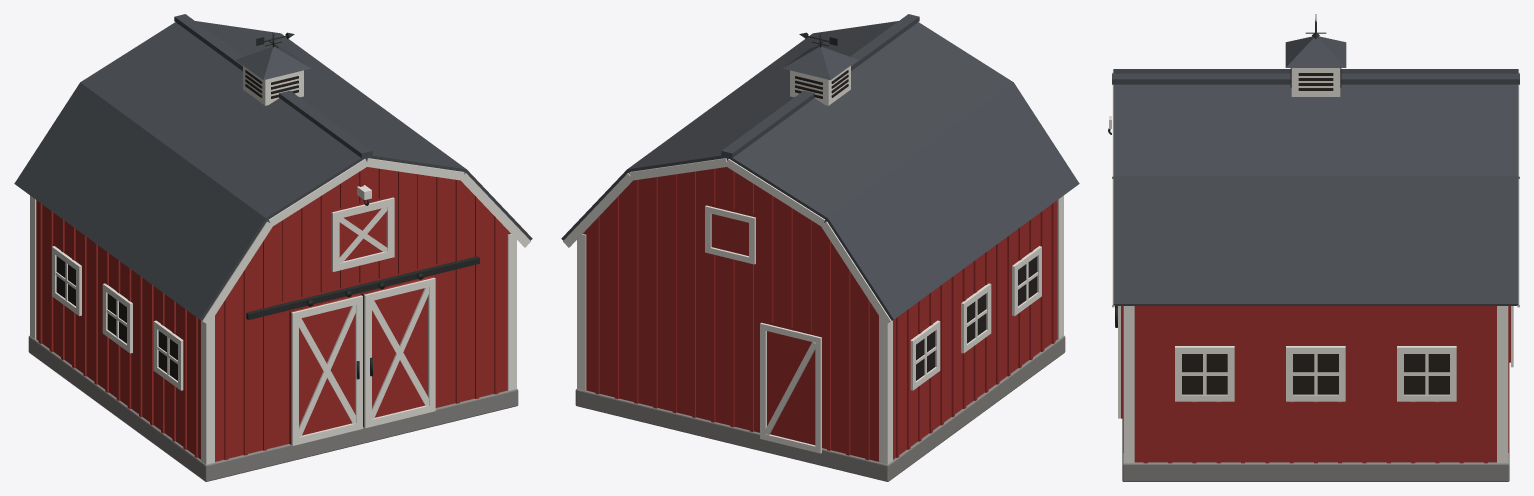
File: barn.glb
3 views of the same model, side by side, from view 1: azimuth 30°, elevation 25°; view 2: azimuth 150°, elevation 25°; view 3: azimuth 270°, elevation 25° (orthographic). The views are drawn at different scales.
Parts seen in each view (by area): view 1: barn; view 2: barn; view 3: barn.
Boxes of the visible parts, x1=… form: barn: x1=14, y1=14, x2=532, y2=481; barn: x1=561, y1=14, x2=1079, y2=481; barn: x1=1108, y1=14, x2=1519, y2=481.
Size of the model in its own units: 6.04 by 6 by 5.94.
